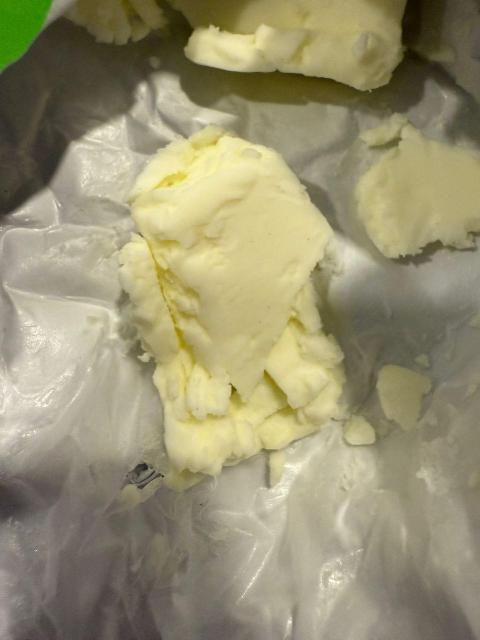Organik: (101, 129, 345, 468), (173, 0, 424, 89), (349, 117, 480, 252), (375, 363, 436, 427), (343, 421, 388, 451)
